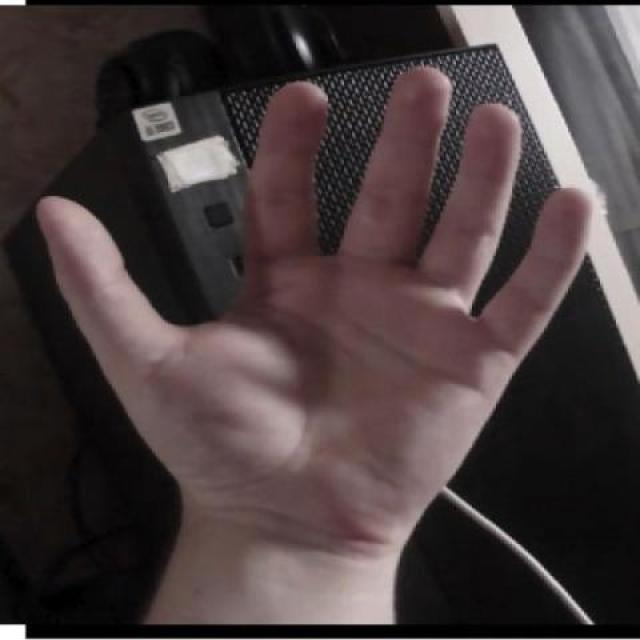Open Hand: (35, 63, 601, 625)
